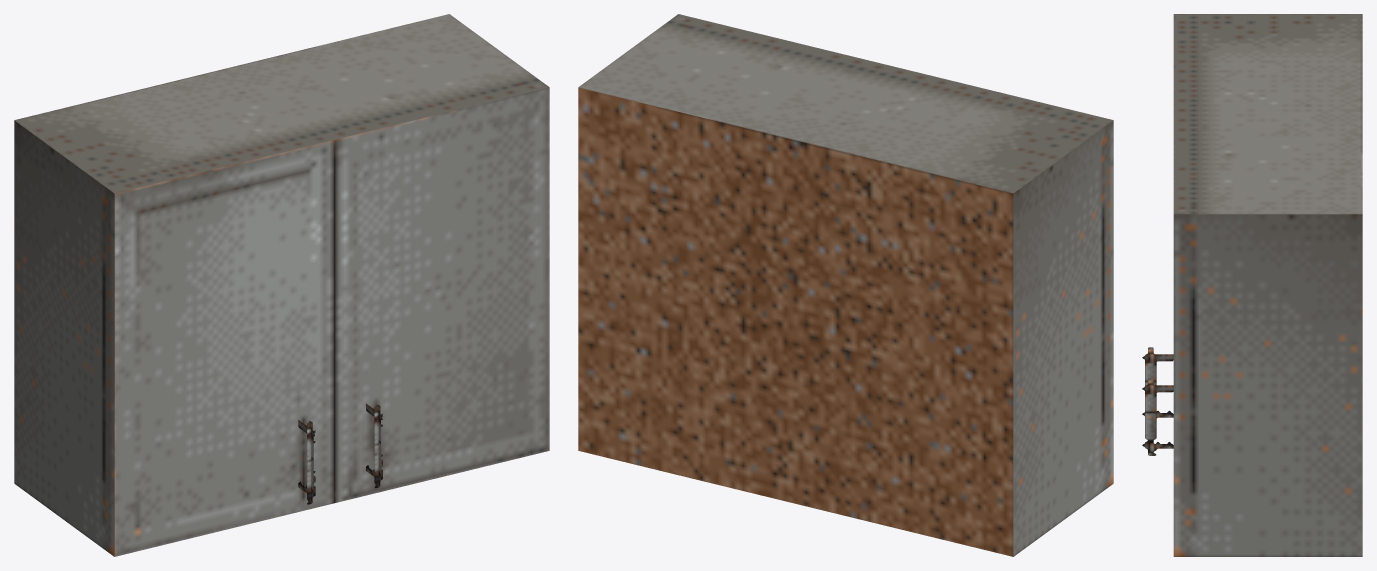
Rendered from kitchen_shelf1.fbx.
3 views of the same model, side by side, from view 1: azimuth 30°, elevation 25°; view 2: azimuth 150°, elevation 25°; view 3: azimuth 270°, elevation 25° (orthographic). The views are drawn at different scales.
Visible parts, largest first — view 1: Kitchen shelf 1; view 2: Kitchen shelf 1; view 3: Kitchen shelf 1.
Boxes of the visible parts, x1,y1,x2,y2 form: Kitchen shelf 1: (14, 14, 549, 556); Kitchen shelf 1: (578, 14, 1113, 556); Kitchen shelf 1: (1142, 14, 1362, 556).
Bounding box in the file's own units: 150 × 120 × 70.
Materials: 1 (1 with a texture image).
